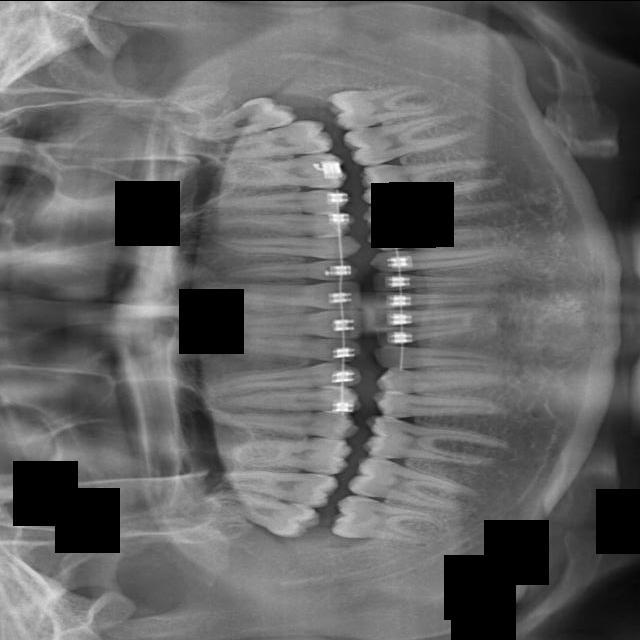3M ESPE Implant: (195, 486, 323, 543)
AGS Medikal Implant: (341, 103, 485, 170)
AMerOss Implant: (355, 148, 508, 206)
Amalgam filling: (209, 460, 340, 509)
Anthogyr Implant: (359, 186, 514, 231)
Bicon Implant: (365, 214, 510, 253)
BioHorizons Implant: (368, 246, 524, 272)
BioLife Implant: (370, 272, 505, 292)
Biomet 3i Implant: (373, 292, 496, 308)
Blue Sky Bio Implant: (373, 306, 485, 326)
Camlog Implant: (372, 319, 492, 346)
Caries: (222, 259, 361, 282)
Composite filling: (372, 346, 515, 370)
Cowellmedi Implant: (376, 369, 507, 392)
Crown: (370, 389, 513, 427)
DENTSPLY Implant: (229, 428, 354, 476)
Dentatus Implant: (359, 413, 512, 473)
Dentis Implant: (345, 452, 480, 515)
Dentium Implant: (328, 490, 448, 555)
Euroteknika Implant: (200, 403, 361, 439)
Filling: (217, 386, 363, 412)
Frontier Implant: (202, 360, 362, 395)
Hiossen Implant: (196, 233, 364, 259)
Implant: (215, 308, 366, 338)
Implant Direct: (211, 331, 362, 362)
Keystone Dental Implant: (208, 279, 364, 312)
MIS Implant: (207, 211, 354, 234)
Mandible: (202, 187, 351, 220)
Maxilla: (230, 171, 266, 177)
Megagen Implant: (213, 116, 335, 165)
Neodent Implant: (166, 88, 300, 151)
Neoss Implant: (324, 70, 446, 133)
